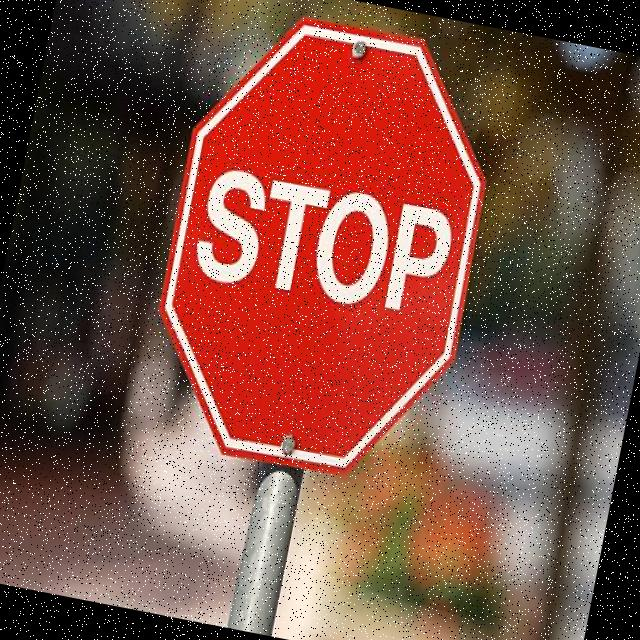stop: (119, 0, 520, 502)
